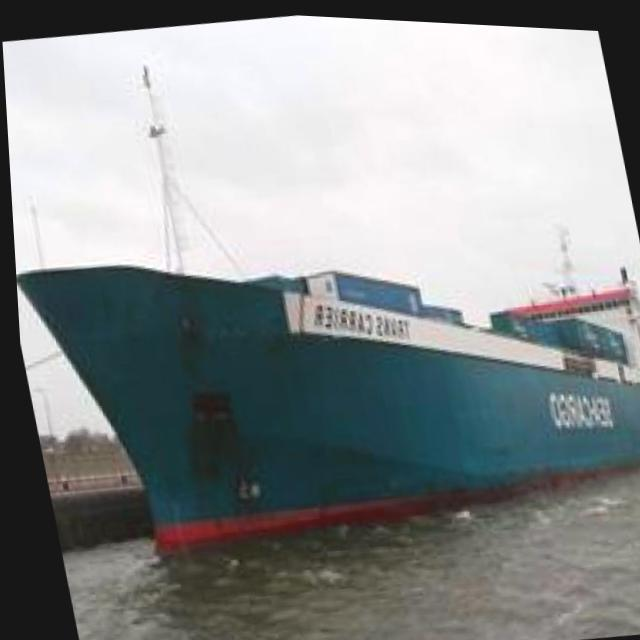ship2: (13, 64, 640, 560)
